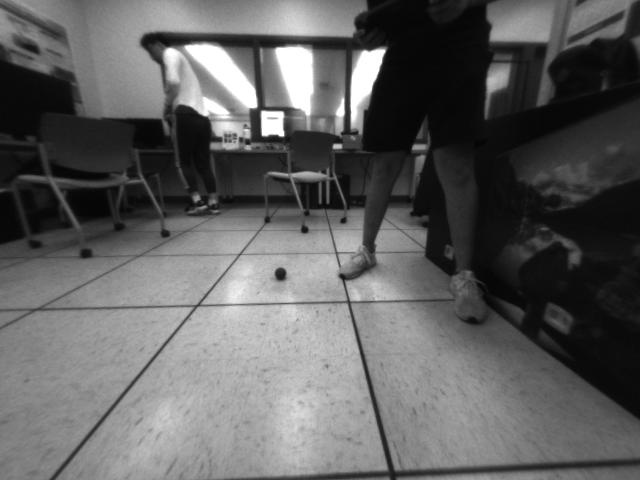dogtoy: (269, 259, 293, 286)
